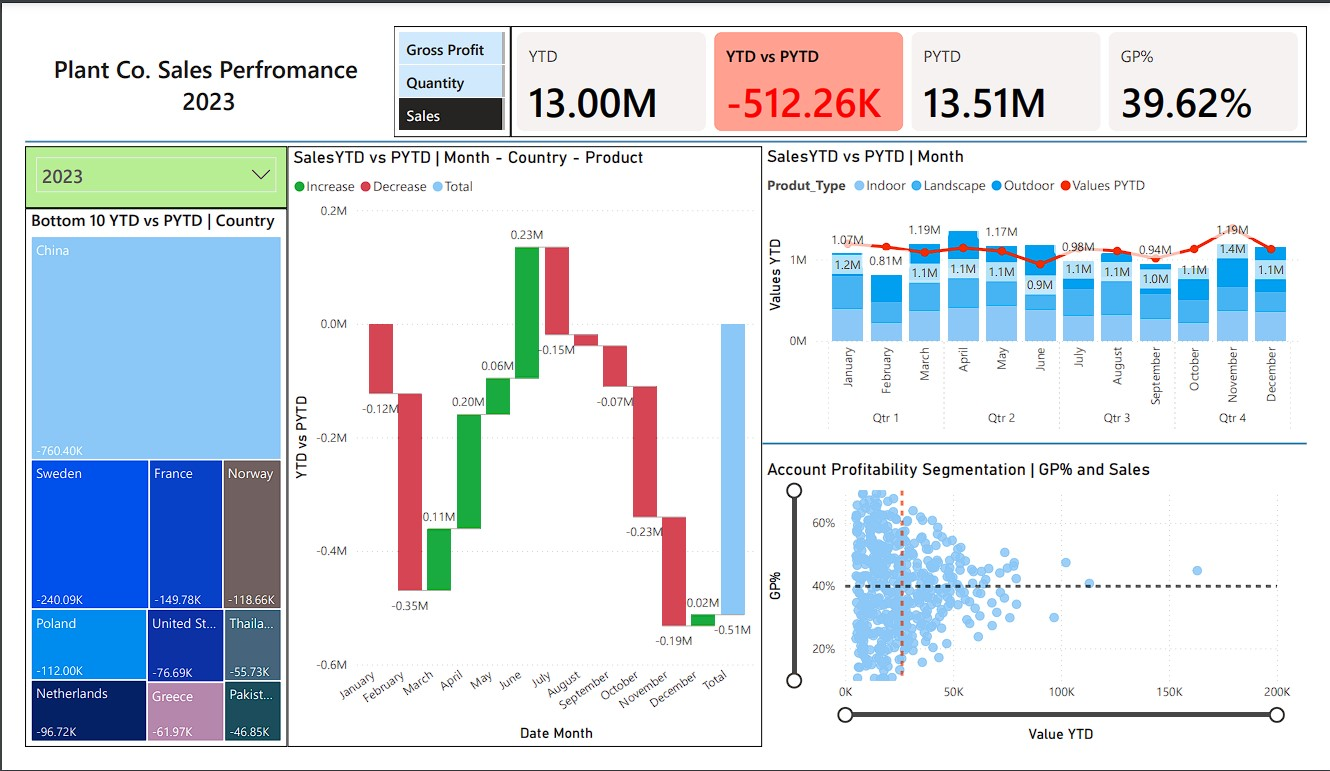

The page's visual inventory and layout, read from the dashboard file:
{"tool":"powerbi","page":{"name":"Performance Report","canvas":[1280,720],"ordinal":0},"visuals":[{"type":"cardVisual","fields":{"Data":["_Measure.S_YTD","_Measure.YTD vs PYTD","_Measure.S_PYTD","_Measure.GP%"]},"box":[485.5,0,794.8,111.3],"z":0},{"type":"advancedSlicerVisual","fields":{"Values":["Slc_Values.Values"]},"box":[368.1,0,117.4,111.3],"z":1000},{"type":"slicer","fields":{"Values":["Dim_Date.Date.Variation.Date Hierarchy.Year"]},"box":[0,119.8,261.7,62.4],"z":2000},{"type":"treemap","title":"Bottom 10 YTD vs PYTD | Country","fields":{"Values":["_Measure.YTD vs PYTD"],"Group":["Dim_Account.Country"]},"box":[0,182.2,261.7,538],"z":3000},{"type":"waterfallChart","fields":{"Y":["_Measure.YTD vs PYTD"],"Category":["Dim_Date.Date.Variation.Date Hierarchy.Month","Dim_Account.Country","Dim_Product.Produt_Type","Dim_Product.Product_Name"]},"box":[261.7,119.8,474.5,600.4],"z":4000},{"type":"lineStackedColumnComboChart","fields":{"Y":["_Measure.S_YTD"],"Y2":["_Measure.S_PYTD"],"Category":["Dim_Date.Date.Variation.Date Hierarchy.Quarter","Dim_Date.Date.Variation.Date Hierarchy.Month"],"Series":["Dim_Product.Produt_Type"]},"box":[736.1,119.8,544.2,293.5],"z":5000},{"type":"scatterChart","fields":{"Y":["_Measure.GP%"],"X":["_Measure.S_YTD"],"Category":["Dim_Account.Account"]},"box":[736.1,431.7,533.2,288.6],"z":5001},{"type":"shape","box":[736.1,413.3,544.2,7.3],"z":5002},{"type":"shape","box":[0,111.3,1280.3,8.6],"z":5003},{"type":"card","fields":{"Values":["_Measure._Report Title"]},"box":[0,0,368.1,111.3],"z":5004}]}

Visuals, with their boxes in screenshot pixels (x1, y1, x2, y2), scaled from the page's 1280x720 canvas onto the 1330x771 screenshot:
cardVisual - _Measure.S_YTD x _Measure.YTD vs PYTD: region(504, 0, 1329, 119)
advancedSlicerVisual - Slc_Values.Values: region(382, 0, 504, 119)
slicer - Dim_Date.Date.Variation.Date Hierarchy.Year: region(0, 128, 272, 195)
"Bottom 10 YTD vs PYTD | Country" treemap: region(0, 195, 272, 770)
waterfallChart - _Measure.YTD vs PYTD x Dim_Date.Date.Variation.Date Hierarchy.Month: region(272, 128, 765, 770)
lineStackedColumnComboChart - _Measure.S_YTD x _Measure.S_PYTD: region(765, 128, 1329, 443)
scatterChart - _Measure.GP% x _Measure.S_YTD: region(765, 462, 1319, 770)
shape: region(765, 443, 1329, 450)
shape: region(0, 119, 1329, 128)
card - _Measure._Report Title: region(0, 0, 382, 119)
